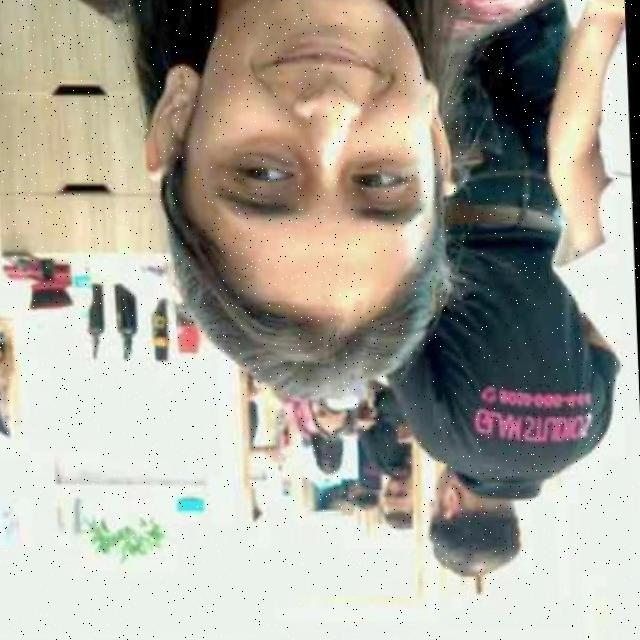puffy_eyes: (244, 157, 303, 179), (358, 161, 415, 178)
